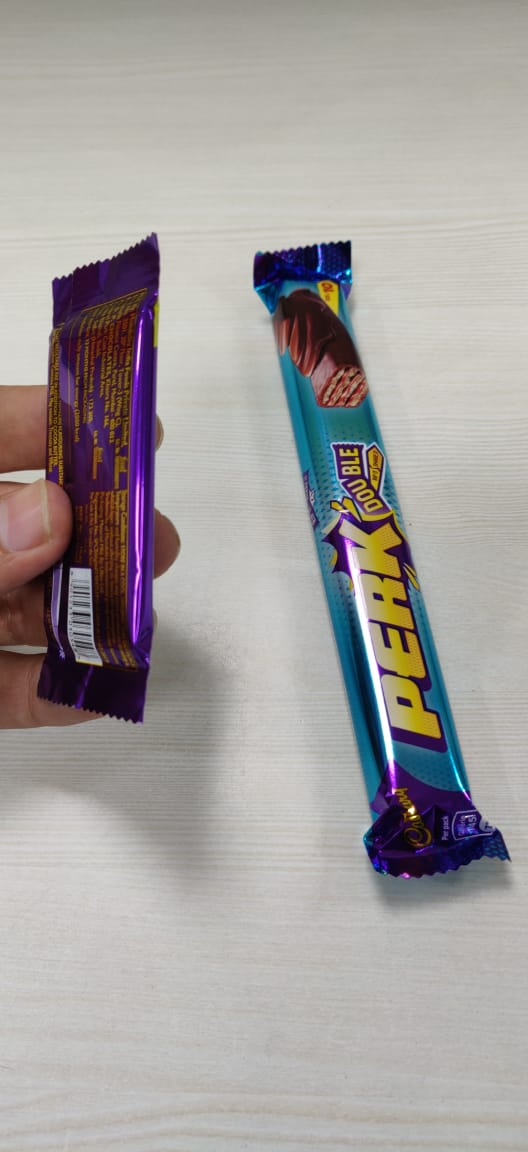dairy milk: (19, 209, 182, 763)
perk: (234, 220, 527, 914)
